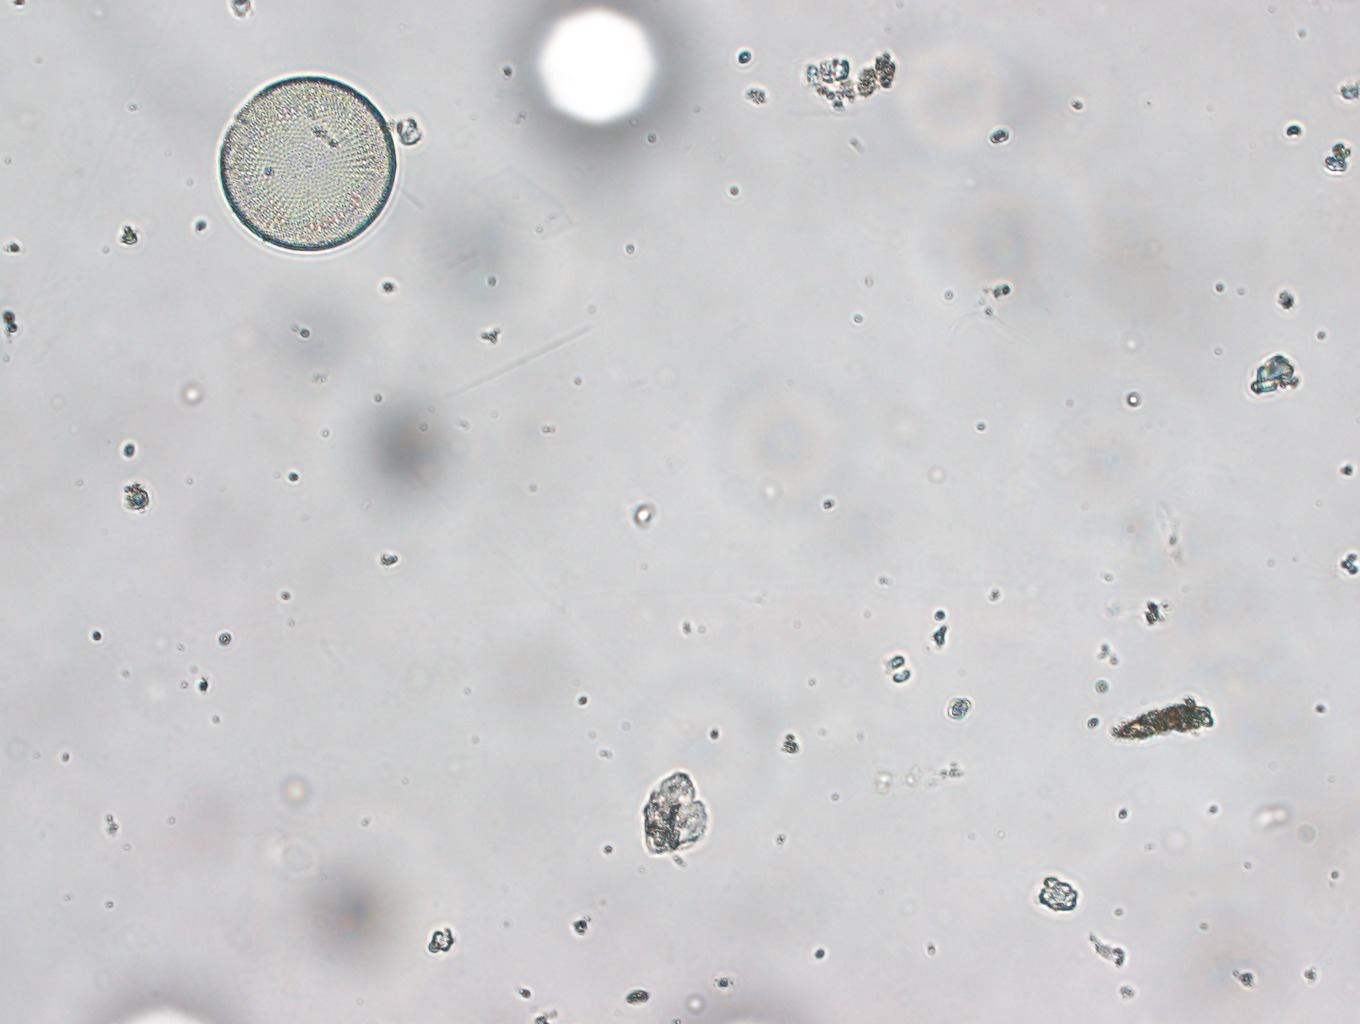coscinodiscus: (212, 70, 399, 255)
